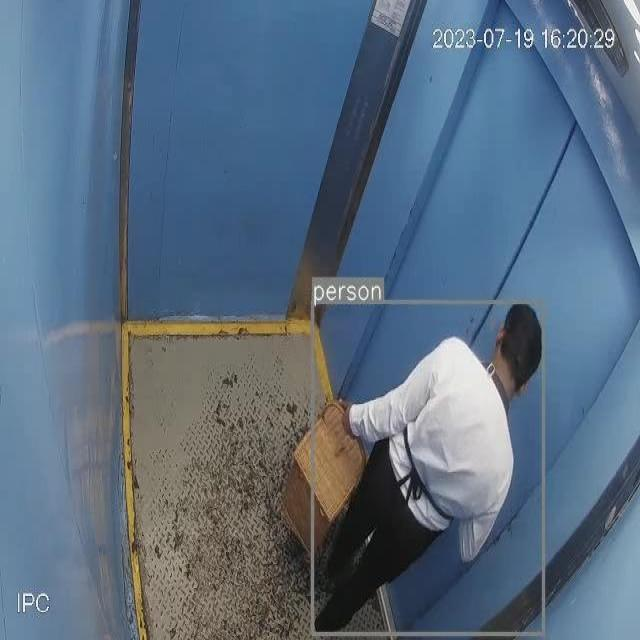person: (315, 300, 545, 635)
